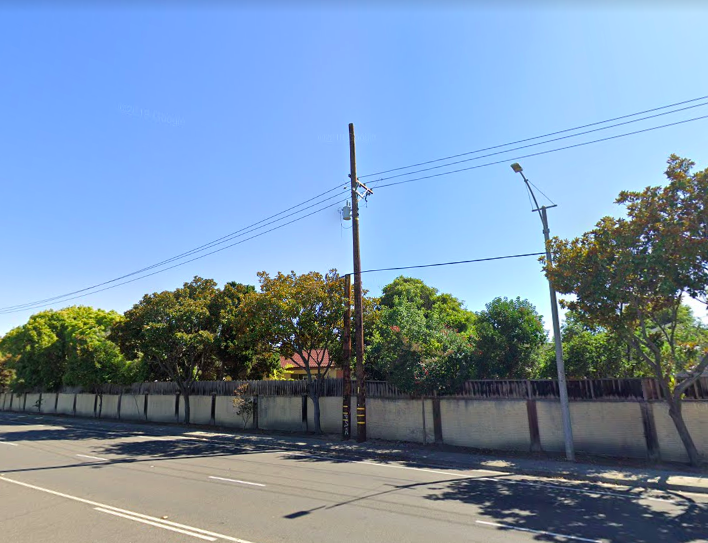utility_pole: (326, 117, 378, 230)
